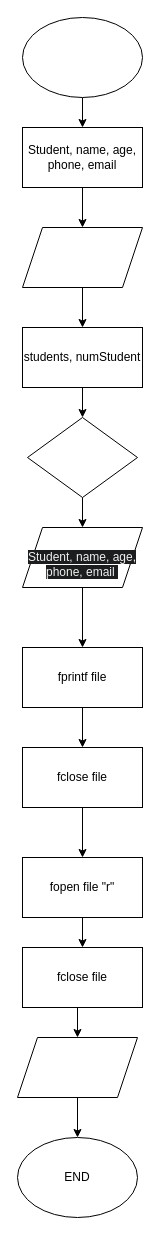
Image size: 160x1235. Some labels were removed from this diagram. Here are the shapes that lost their labels. From the top down, the centre of each, then its label:
At [82,57]: "START".
At [82,257]: "numStudents".
At [82,457]: "for(i=1; i<numStudent".
At [77,1067]: "in ra man hinh".
